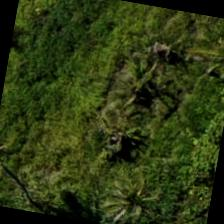Kelapa_Sawit: (78, 146, 181, 223)
